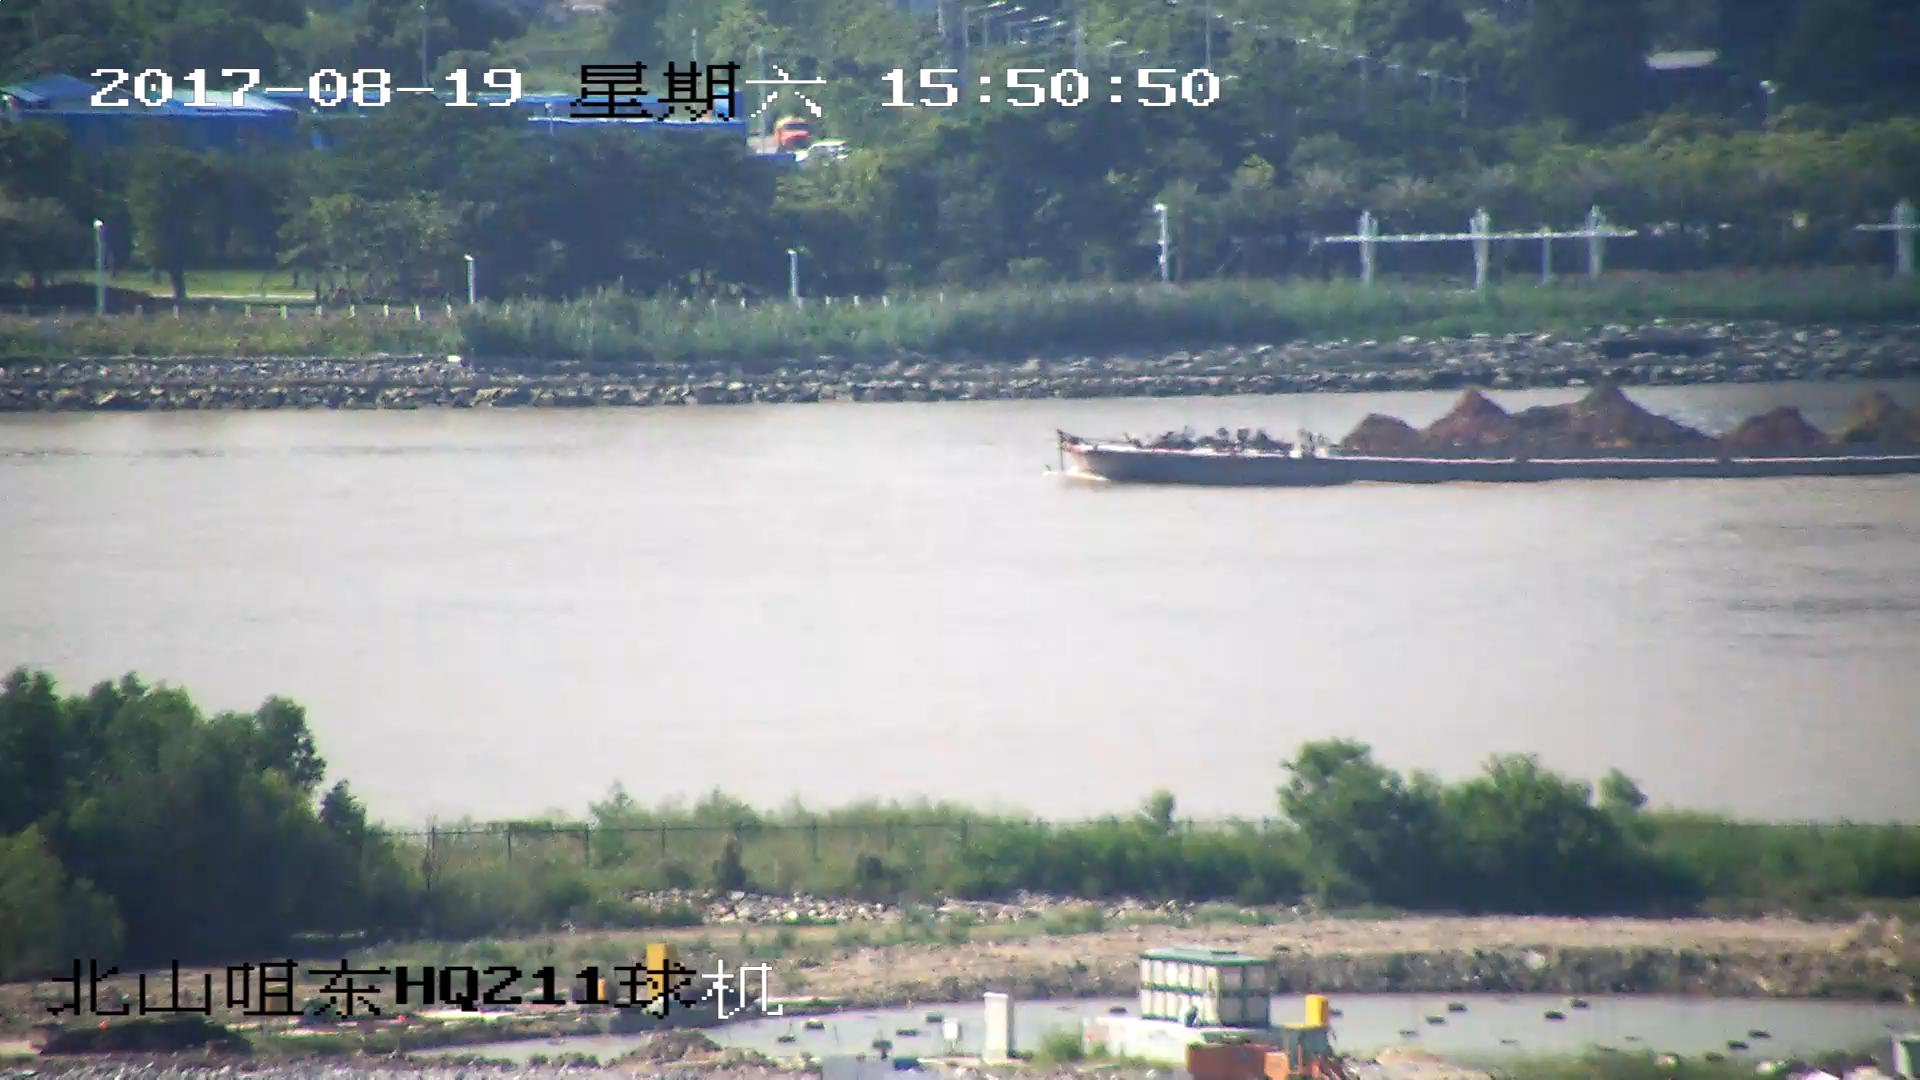ore carrier: (1056, 374, 1920, 494)
